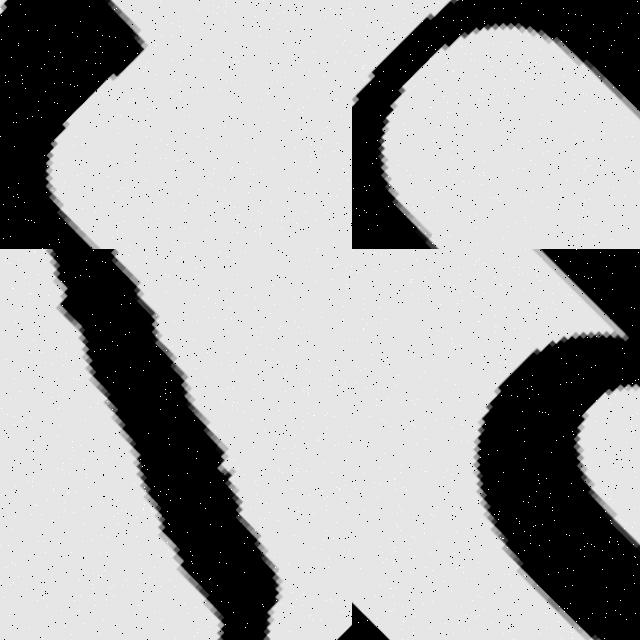D: (352, 249, 640, 640)
L: (0, 249, 352, 640)
O: (352, 0, 640, 249)
R: (0, 0, 352, 249)
